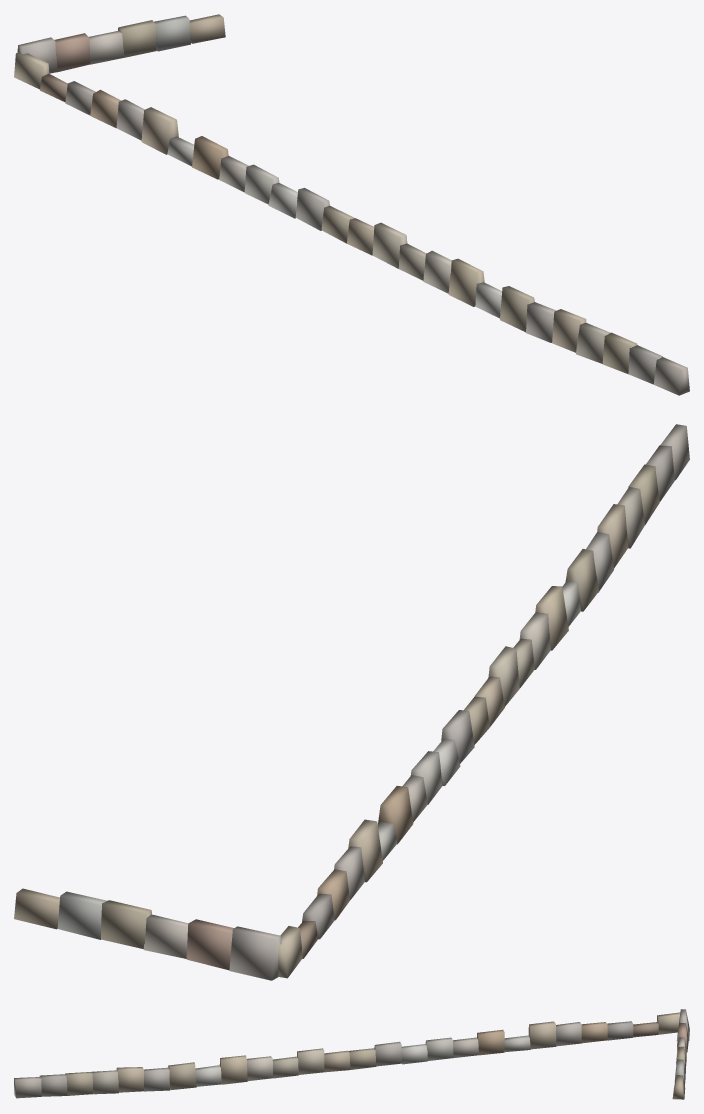
File: farm_16_8_far.glb
The picture shows the model from 3 angles, top to bottom: view 1: azimuth 30°, elevation 25°; view 2: azimuth 150°, elevation 25°; view 3: azimuth 270°, elevation 25°; orthographic projection. The views are drawn at different scales.
Visible parts, largest first — view 1: geometry_0; view 2: geometry_0; view 3: geometry_0.
Boxes of the visible parts, box(x1,y1,x2,y2) form: geometry_0: box(14, 14, 689, 395); geometry_0: box(14, 424, 689, 980); geometry_0: box(14, 1009, 689, 1099).
Size of the model in its own units: 9.78 by 2.1 by 40.46.
